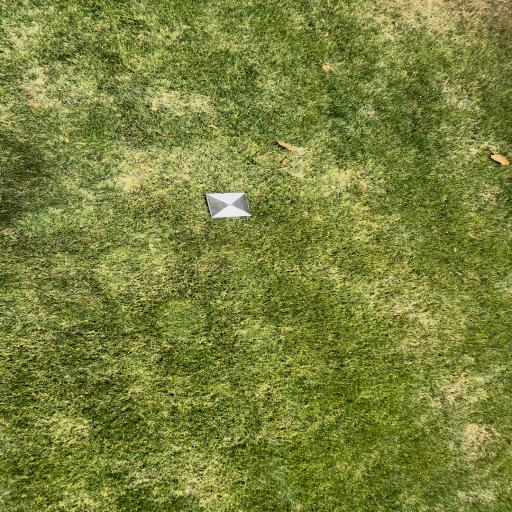target: (208, 193, 251, 218)
